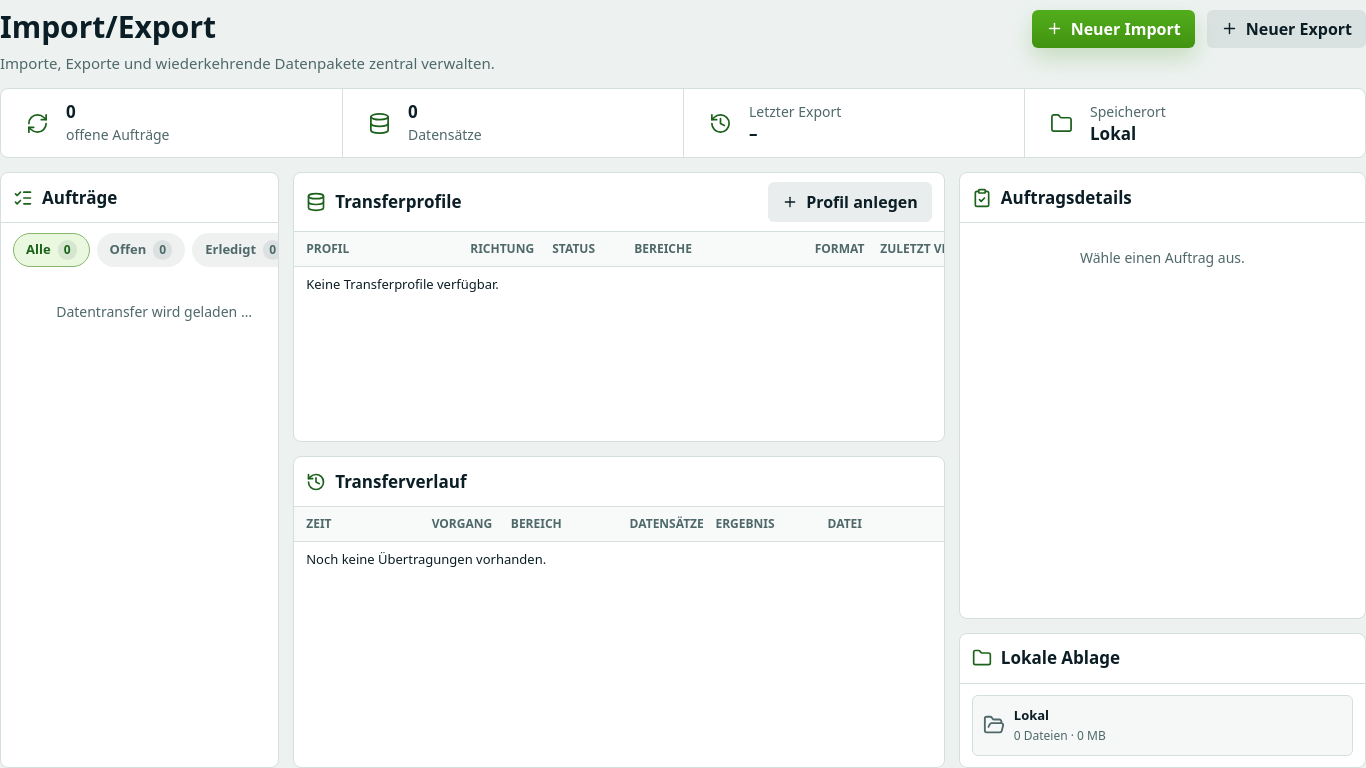
Test: data transfer operational dialogs › disables CSV for exhibition lists and explains why
The image size is (1366, 768).
Step 1. Click the button "Profil anlegen" → coordinates (850, 202), box [768,182,932,222]
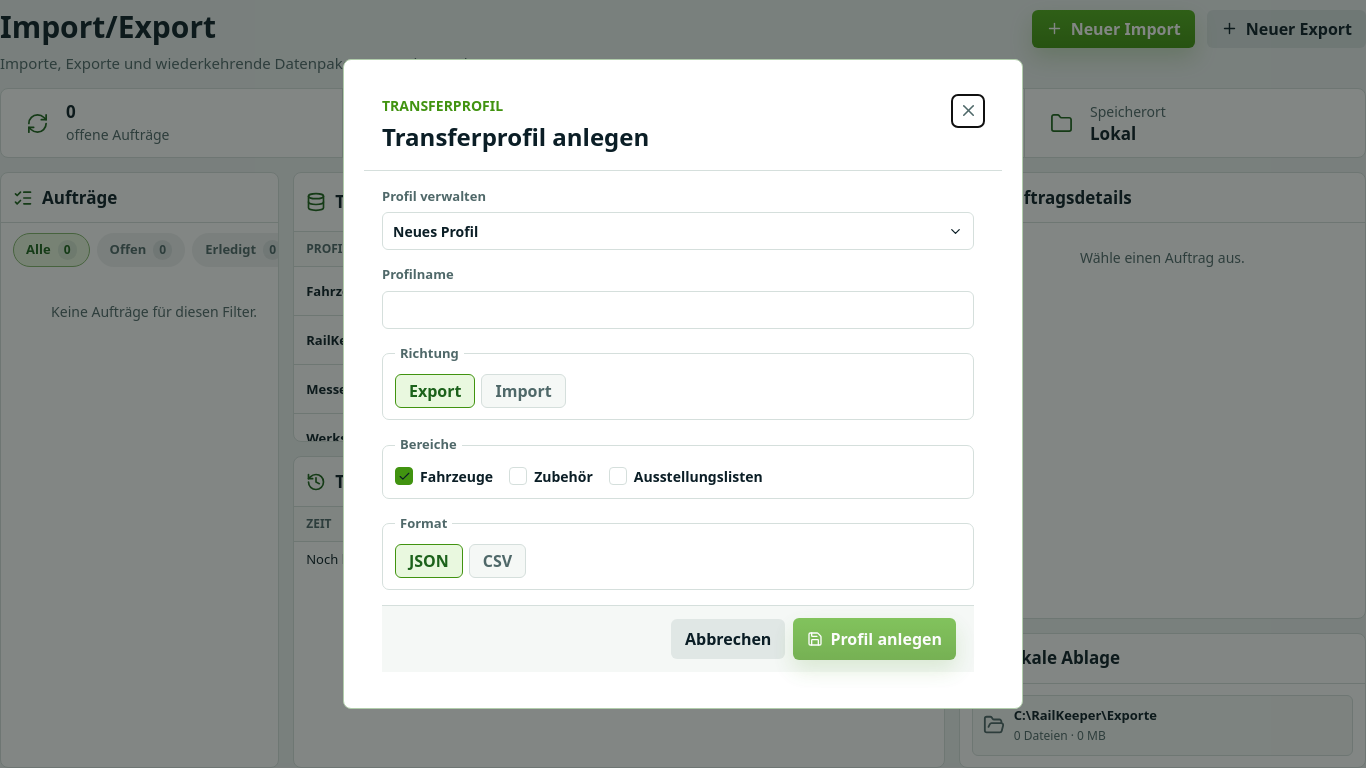
Step 2. Click the checkbox labelled "Fahrzeuge" → coordinates (404, 476), box [395,467,413,485]
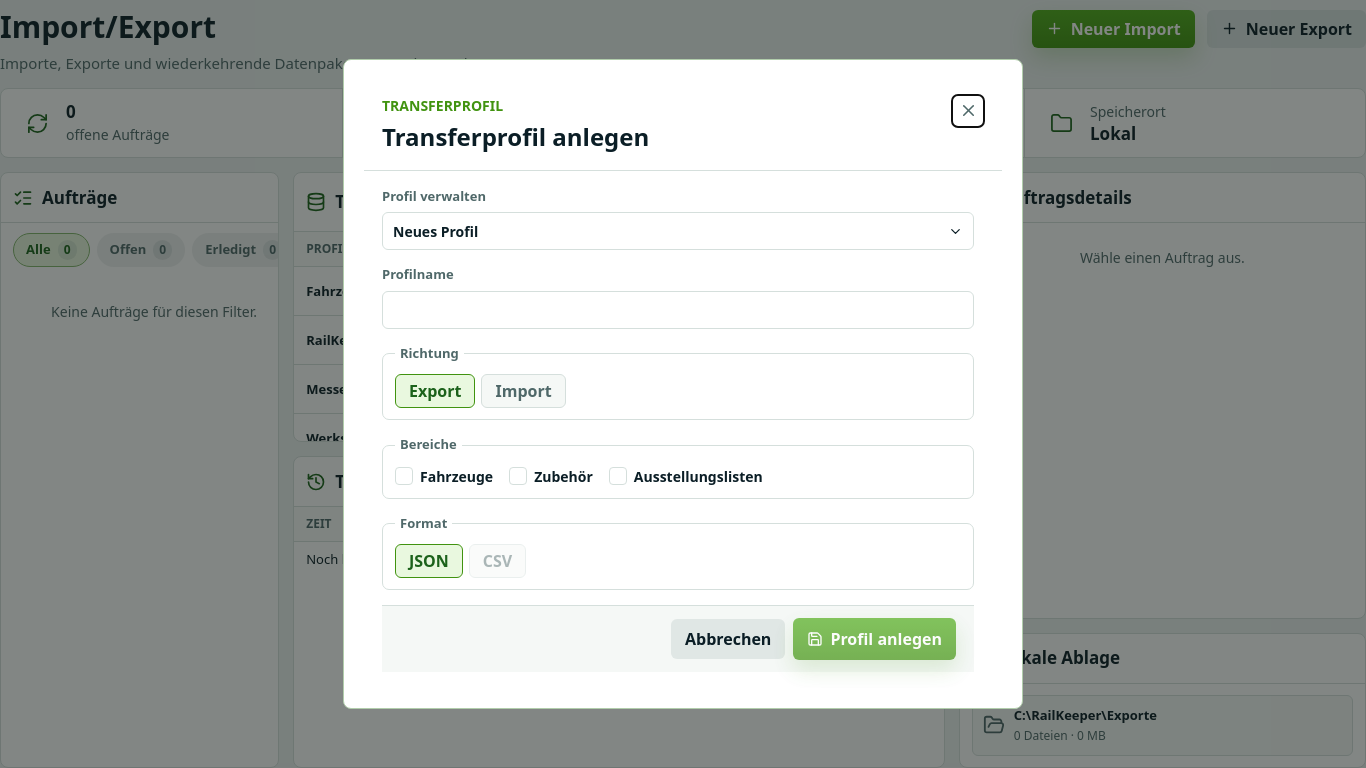
Step 3. Click the checkbox labelled "Ausstellungslisten" → coordinates (618, 476), box [609,467,627,485]
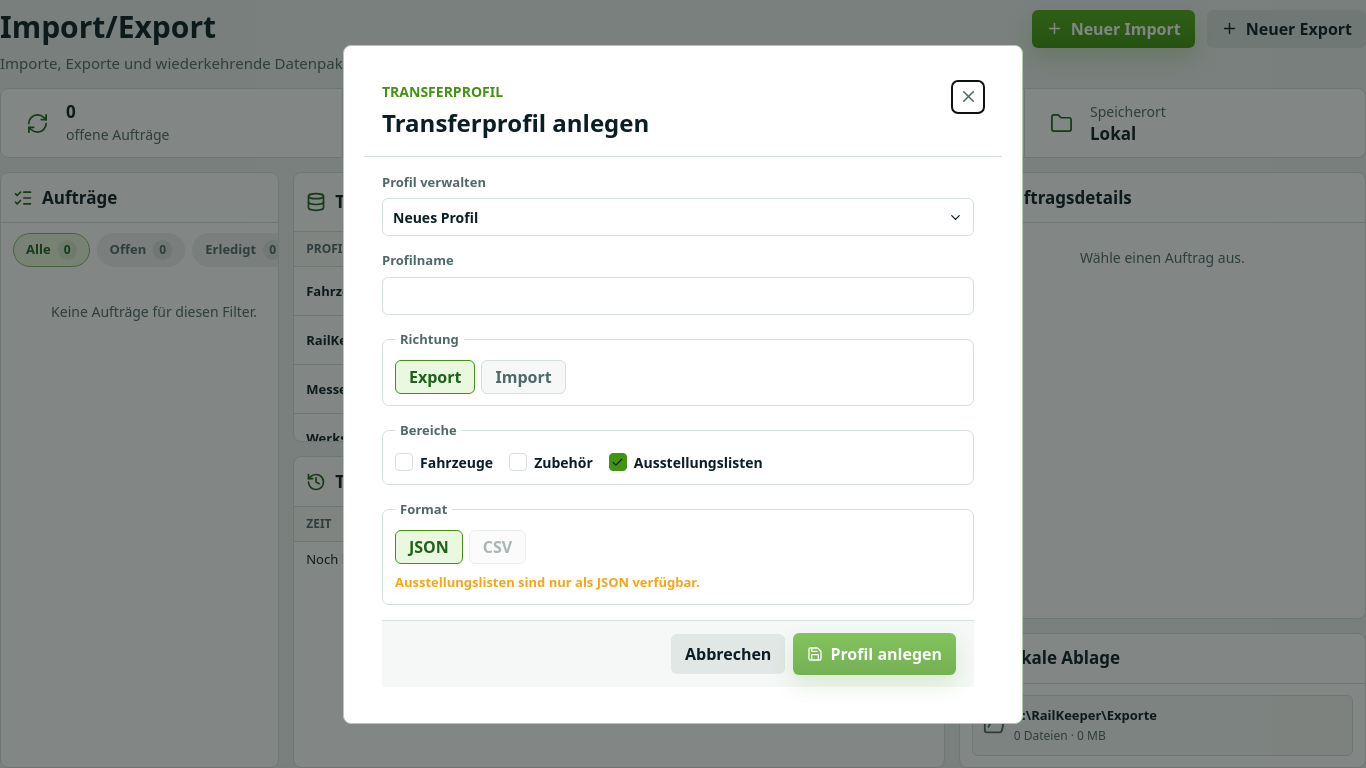
Result: the radio button labelled "CSV" is disabled at [469,530,526,564]
Result: the text "Ausstellungslisten sind nur als JSON verfügbar." is shown at [395,573,700,591]
